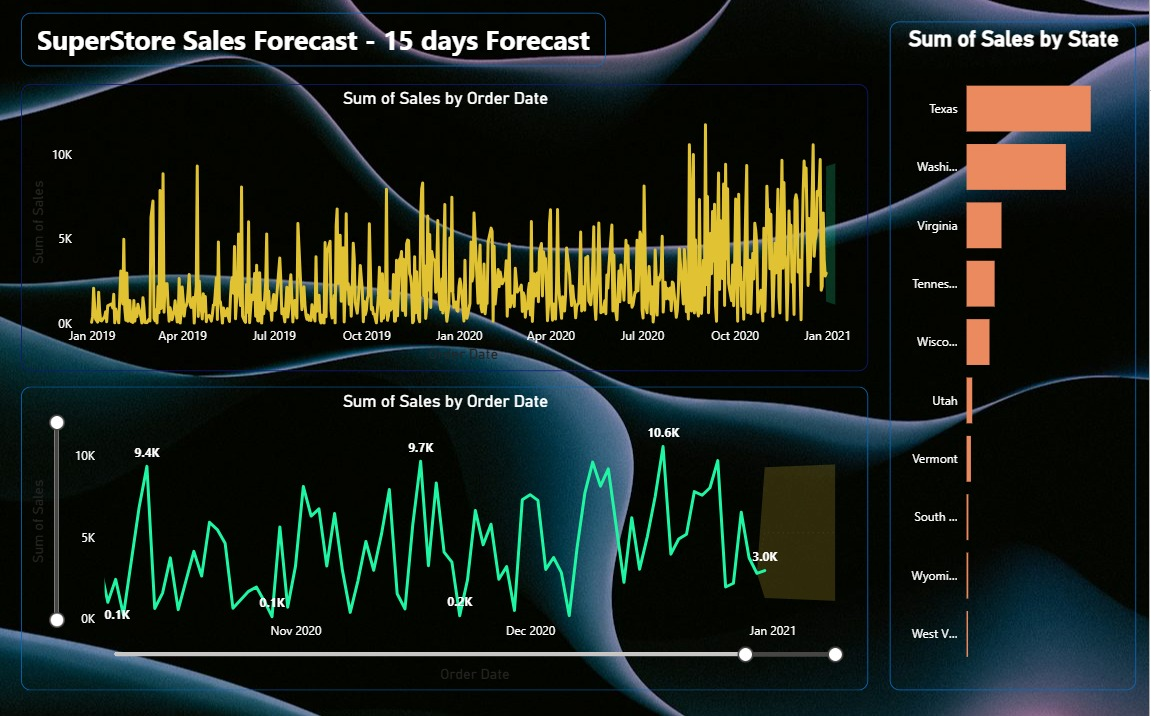

The page's visual inventory and layout, read from the dashboard file:
{"tool":"powerbi","page":{"name":"Page 2","canvas":[1280,720],"ordinal":1},"visuals":[{"type":"lineChart","fields":{"Y":["Sum(SuperStore_Sales_Dataset.Sales)"],"Category":["SuperStore_Sales_Dataset.Order Date"]},"box":[25,387.5,847.5,303.8],"z":0},{"type":"lineChart","fields":{"Y":["Sum(SuperStore_Sales_Dataset.Sales)"],"Category":["SuperStore_Sales_Dataset.Order Date"]},"box":[25,85,847.5,287.5],"z":1000},{"type":"barChart","fields":{"Category":["SuperStore_Sales_Dataset.State"],"Y":["Sum(SuperStore_Sales_Dataset.Sales)"]},"box":[893.8,22.5,246.2,668.8],"z":2000},{"type":"textbox","box":[25,13.8,585,53.8],"z":3000}]}

Visuals, with their boxes on the page's 1280x720 design canvas (x1, y1, x2, y2). These are canvas units, not pixel positions in the 1151x716 screenshot, which may show the page scaled, cropped or inside an application window:
lineChart - Sum(SuperStore_Sales_Dataset.Sales) x SuperStore_Sales_Dataset.Order Date: region(25, 388, 872, 691)
lineChart - Sum(SuperStore_Sales_Dataset.Sales) x SuperStore_Sales_Dataset.Order Date: region(25, 85, 872, 372)
barChart - SuperStore_Sales_Dataset.State x Sum(SuperStore_Sales_Dataset.Sales): region(894, 22, 1140, 691)
textbox: region(25, 14, 610, 68)
